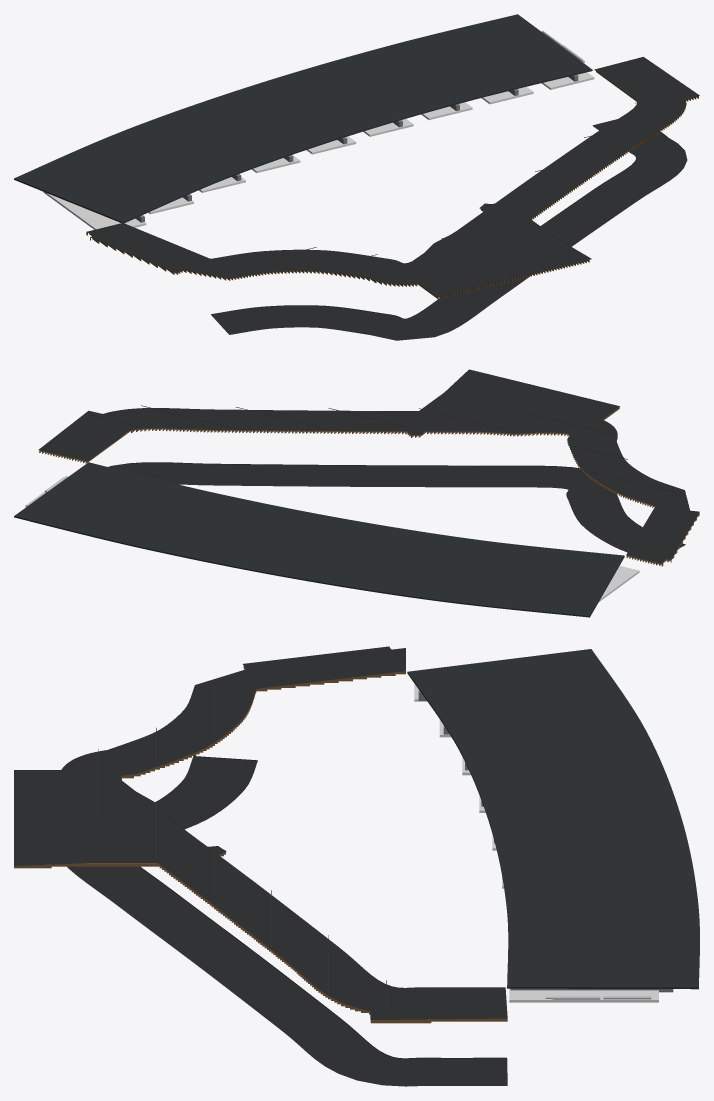
The model's file is SM_L4_Ceiling_Solid_748ed0fc09_0.fbx.
3 renders of one model, top to bottom at view 1: azimuth 30°, elevation 25°; view 2: azimuth 150°, elevation 25°; view 3: azimuth 270°, elevation 25°, orthographic. The views are drawn at different scales.
Visible parts, largest first — view 1: SM_L4_Ceiling_Solid_748ed0fc09_0; view 2: SM_L4_Ceiling_Solid_748ed0fc09_0; view 3: SM_L4_Ceiling_Solid_748ed0fc09_0.
Part boxes in pixels (x1,y1,x2,y2): SM_L4_Ceiling_Solid_748ed0fc09_0: [14, 14, 699, 340]; SM_L4_Ceiling_Solid_748ed0fc09_0: [14, 369, 699, 617]; SM_L4_Ceiling_Solid_748ed0fc09_0: [14, 646, 699, 1086].
Size of the model in its own units: 46.1 by 35.78 by 4.3.
